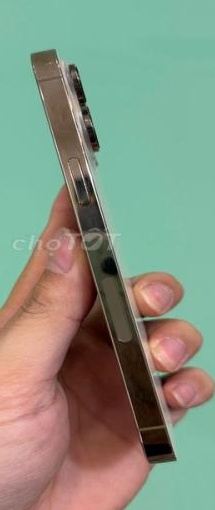scratch: (32, 53, 86, 72)
